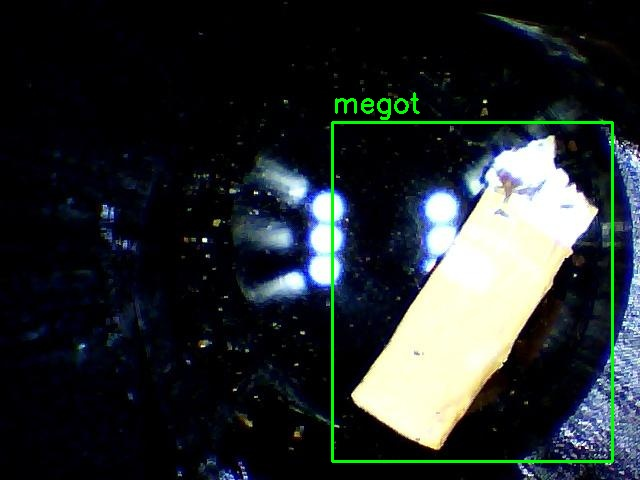megot: (332, 122, 612, 461)
